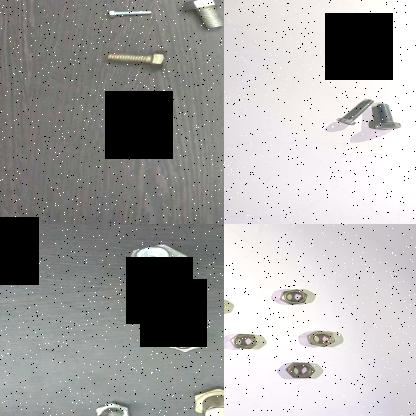Bolts: (121, 238, 192, 280), (102, 48, 172, 70), (368, 98, 410, 134), (179, 383, 224, 416), (181, 0, 224, 32), (335, 94, 374, 127), (163, 328, 205, 356), (89, 397, 137, 416), (102, 5, 156, 19), (167, 300, 199, 320)
NUTS: (224, 328, 261, 350), (304, 328, 340, 349), (276, 285, 310, 305), (286, 360, 322, 378)
